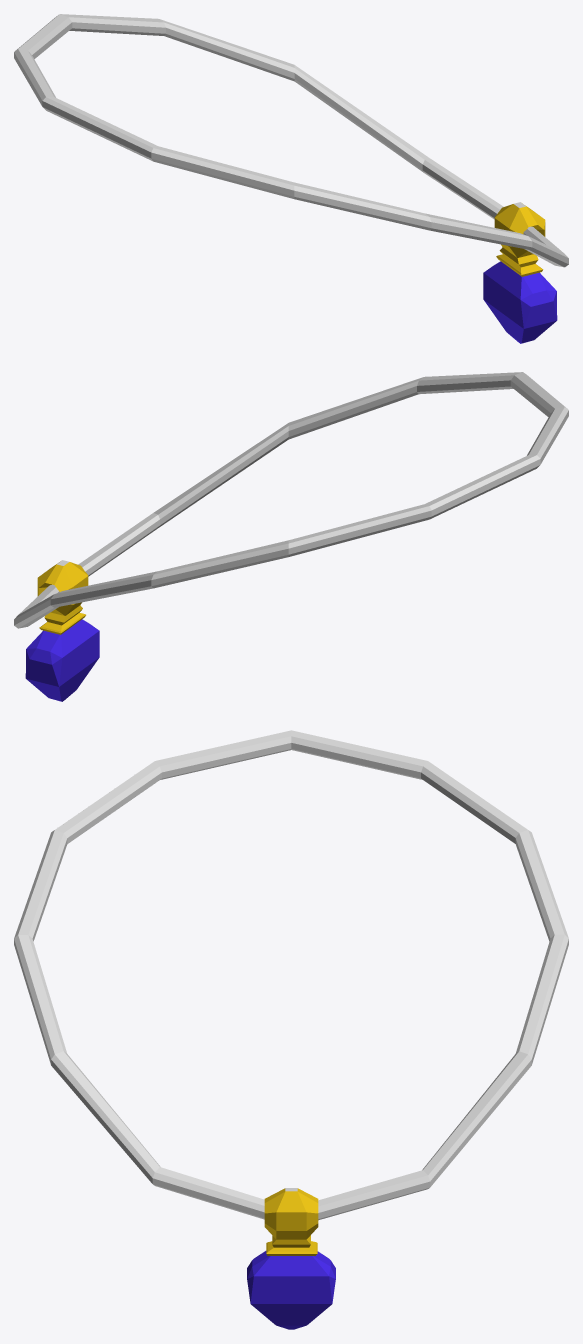
File: Heavy Lilac Necklace.fbx
3 views of the same model, one above another, from view 1: azimuth 30°, elevation 25°; view 2: azimuth 150°, elevation 25°; view 3: azimuth 270°, elevation 25° (orthographic).
Parts seen in each view (by area): view 1: Cylinder; view 2: Cylinder; view 3: Cylinder.
Boxes of the visible parts, x1,y1,x2,y2 form: Cylinder: (14, 14, 568, 343); Cylinder: (14, 372, 568, 701); Cylinder: (14, 730, 568, 1329).
Bounding box in the file's own units: 433 × 301 × 415.
